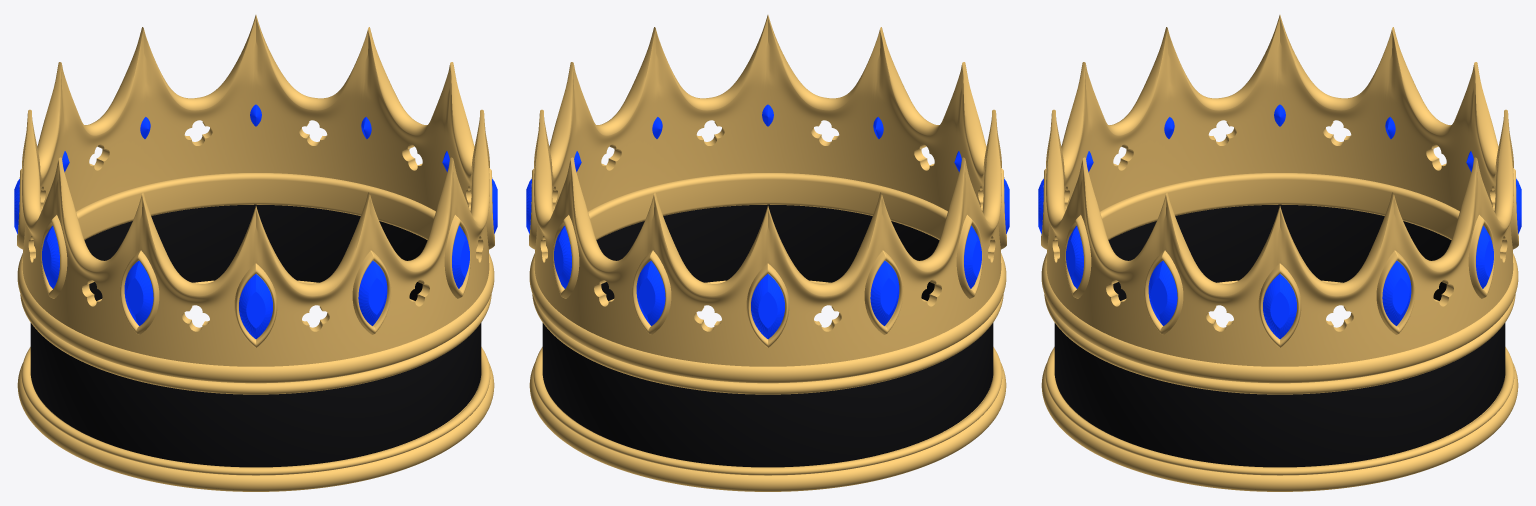
File: crown-spires.glb
3 views of the same model, side by side, from view 1: azimuth 30°, elevation 25°; view 2: azimuth 150°, elevation 25°; view 3: azimuth 270°, elevation 25° (orthographic).
Visible parts, largest first — view 1: wall, band, rim_upper_back, rim_upper, rim_bottom, gems, bezels, rim_upper_bead, rim_bottom_bead; view 2: wall, band, rim_upper_back, rim_upper, rim_bottom, gems, bezels, rim_upper_bead, rim_bottom_bead; view 3: wall, band, rim_upper_back, rim_upper, rim_bottom, gems, bezels, rim_upper_bead, rim_bottom_bead.
Part boxes in pixels (box(x1,y1,x2,y2)): wall: box(22, 15, 489, 366); band: box(30, 204, 481, 467); rim_upper_back: box(76, 173, 435, 239); rim_upper: box(17, 253, 494, 383); rim_bottom: box(17, 362, 494, 491); gems: box(14, 104, 497, 338); bezels: box(17, 168, 494, 347); rim_upper_bead: box(20, 294, 491, 394); rim_bottom_bead: box(21, 347, 490, 475); wall: box(534, 15, 1001, 366); band: box(542, 204, 993, 467); rim_upper_back: box(588, 173, 947, 239); rim_upper: box(529, 253, 1006, 383); rim_bottom: box(529, 362, 1006, 491); gems: box(526, 104, 1009, 338); bezels: box(529, 168, 1006, 347); rim_upper_bead: box(532, 294, 1003, 394); rim_bottom_bead: box(533, 347, 1002, 475); wall: box(1046, 15, 1513, 366); band: box(1054, 204, 1505, 467); rim_upper_back: box(1100, 173, 1459, 239); rim_upper: box(1041, 253, 1518, 383); rim_bottom: box(1041, 363, 1518, 491); gems: box(1038, 104, 1521, 338); bezels: box(1041, 168, 1518, 347); rim_upper_bead: box(1044, 294, 1515, 394); rim_bottom_bead: box(1045, 347, 1514, 475).
Size of the model in its own units: 2.14 by 1.39 by 2.14.
